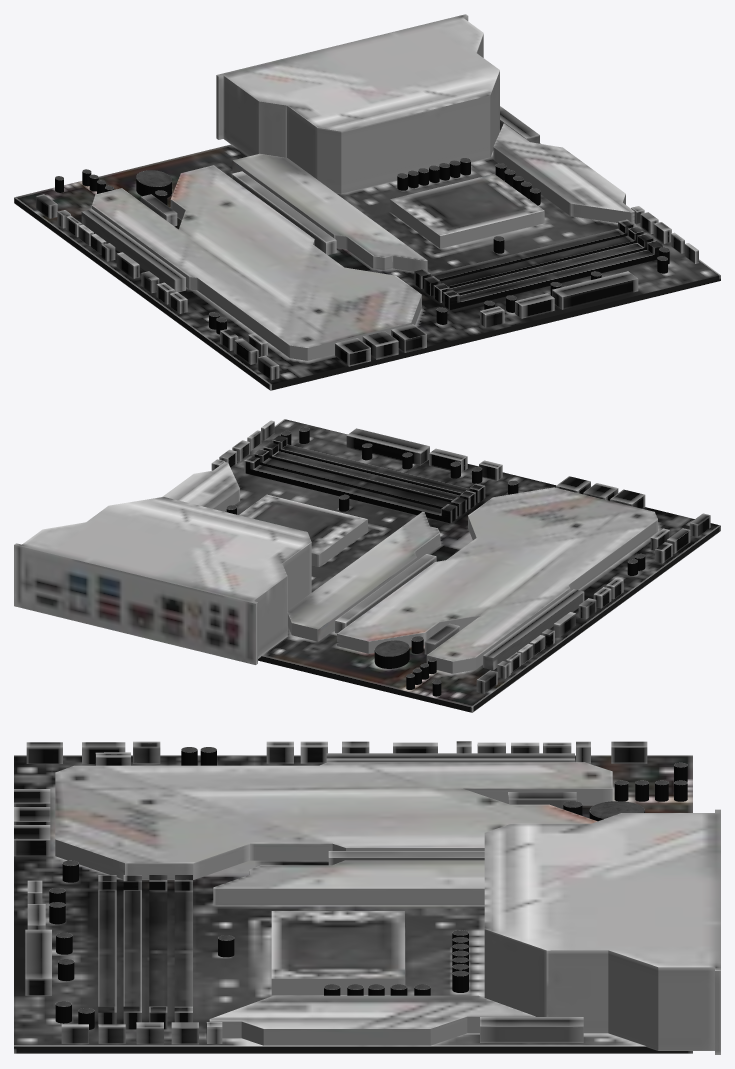
The model's file is mb-msi-pro-b760m-a-ddr4_lod2.glb.
3 views of the same model, one above another, from view 1: azimuth 30°, elevation 25°; view 2: azimuth 150°, elevation 25°; view 3: azimuth 270°, elevation 25° (orthographic). The views are drawn at different scales.
Visible parts, largest first — view 1: body; view 2: body; view 3: body.
Boxes of the visible parts, x1,y1,x2,y2 form: body: [14, 14, 720, 390]; body: [14, 419, 720, 712]; body: [14, 741, 720, 1054].
Size of the model in its own units: 0.244 by 0.0345 by 0.244.
32 materials, 32 textured.
